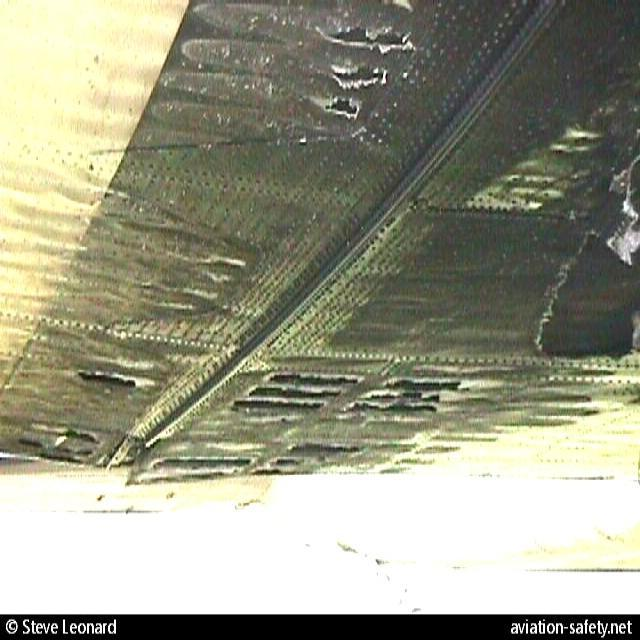crack: (311, 27, 414, 123)
